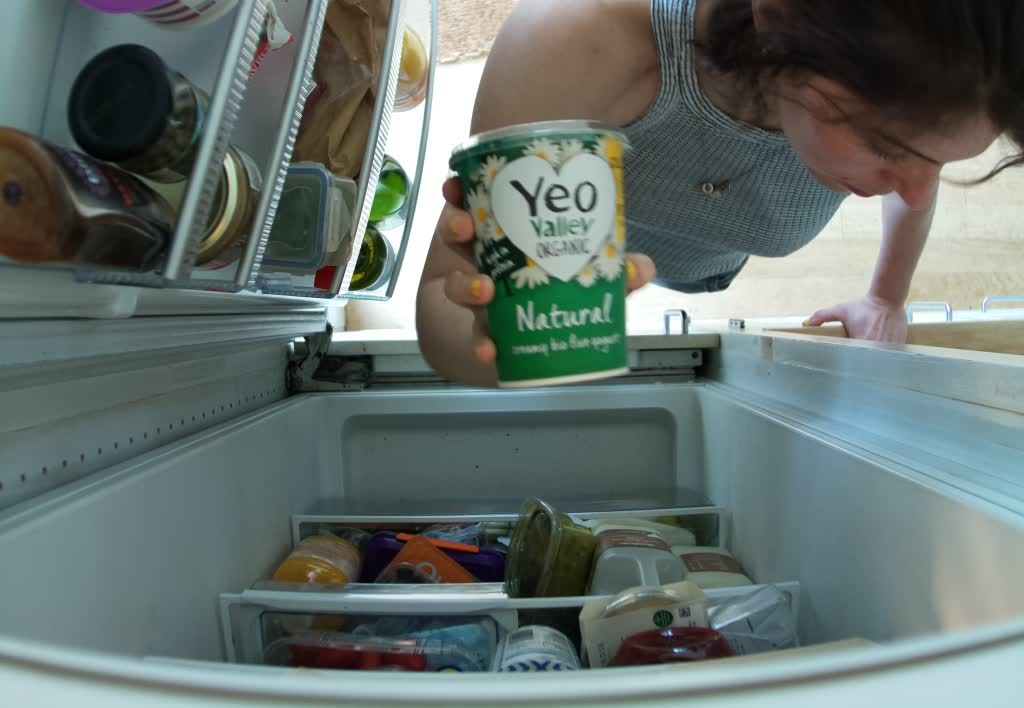yogurt: (449, 117, 649, 394)
